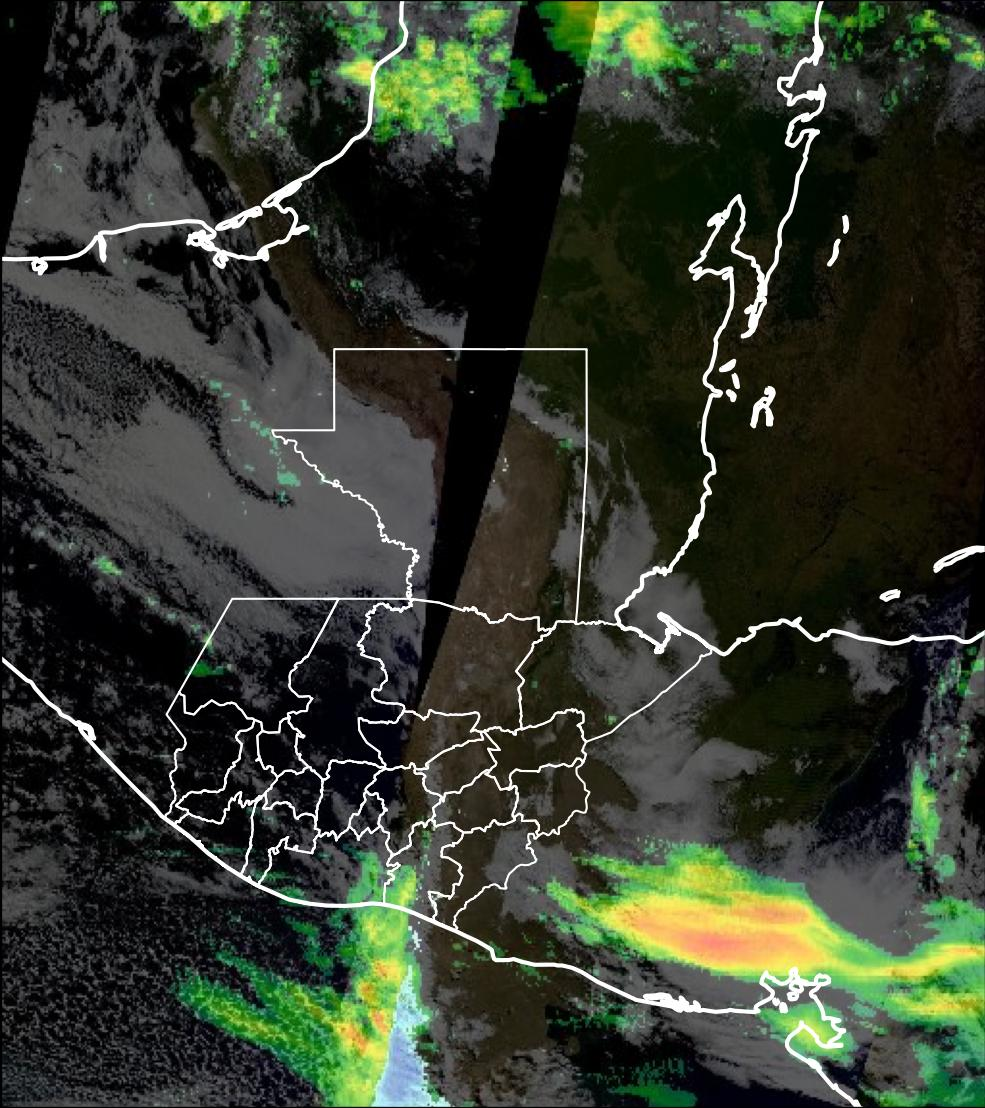precipitacion: (585, 857, 857, 994), (619, 1, 667, 62)
